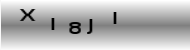8: (67, 21, 81, 35)
J: (85, 18, 93, 35)
X: (18, 8, 35, 22)
l: (49, 17, 55, 31), (111, 11, 117, 25)
